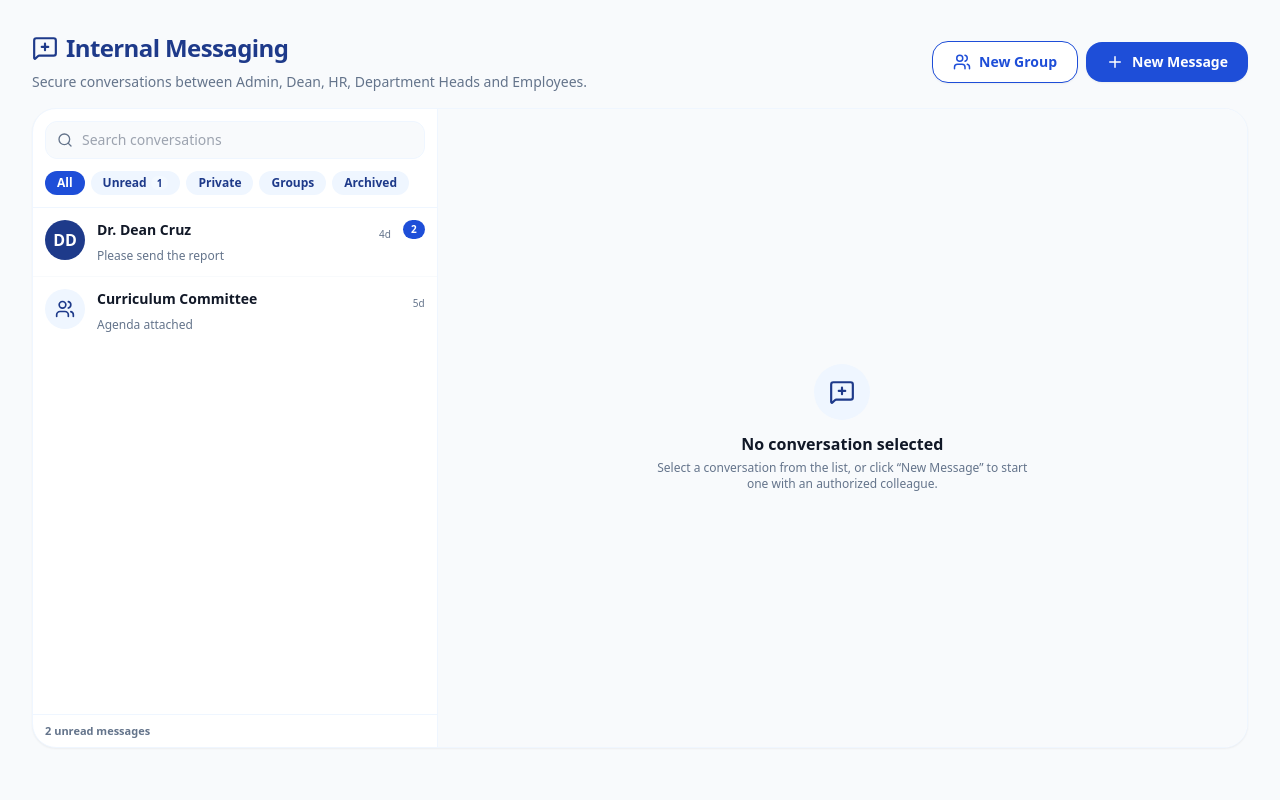
Test case: MessagesPage (internal messaging) › opens a thread with date separators, received/sent bubbles, attachment and read ticks
What coordinates should you click on to do the following:
click the button "DD Dr. Dean Cruz 4d Please send the report 2"
I would click on:
 (65, 240)
Its box is [33, 208, 437, 276].
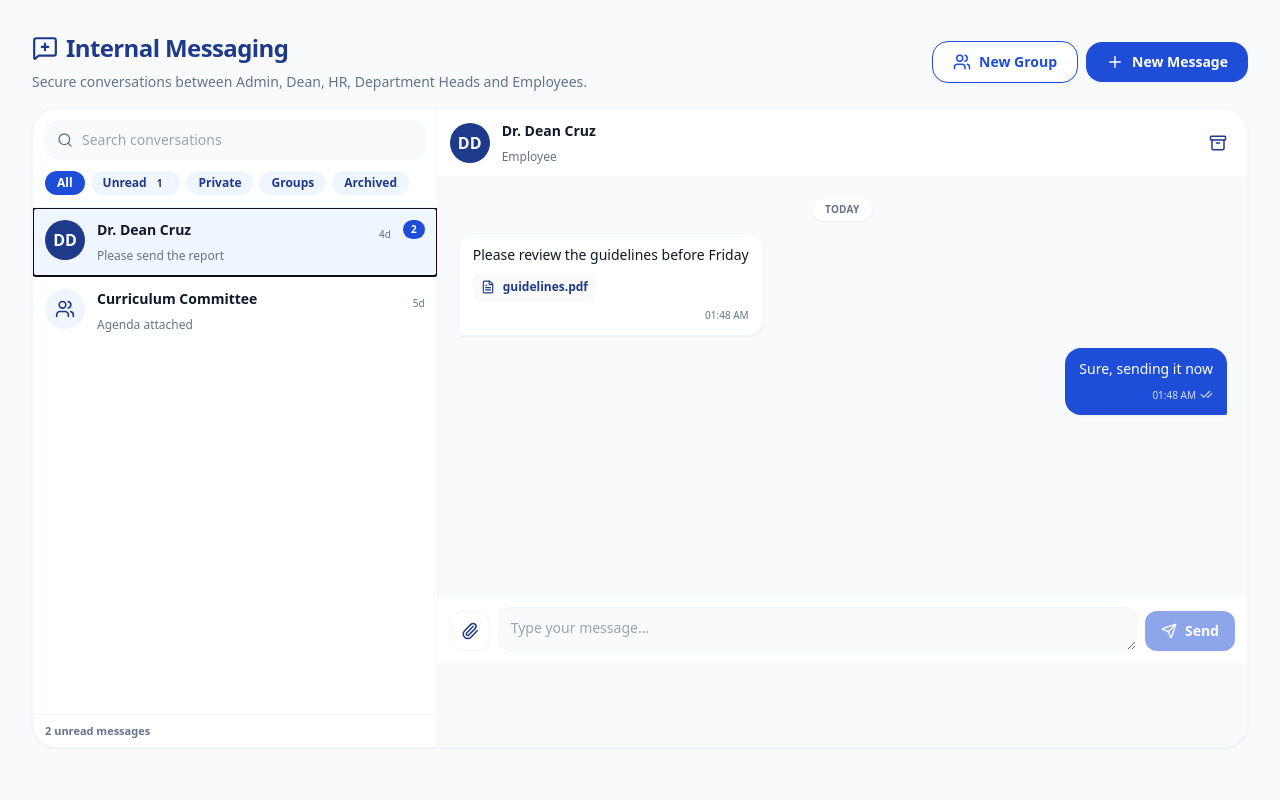
Now the text "Please review the guidelines before Friday" is shown, box [473, 244, 749, 267]
Now the text "Sure, sending it now" is shown, box [1079, 358, 1213, 381]
Now the text "Today" is shown, box [813, 198, 872, 221]
